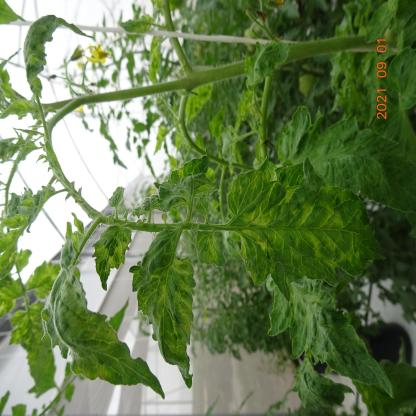T_L_R: (225, 159, 381, 301), (42, 226, 165, 398), (131, 227, 196, 388), (94, 226, 133, 291)
